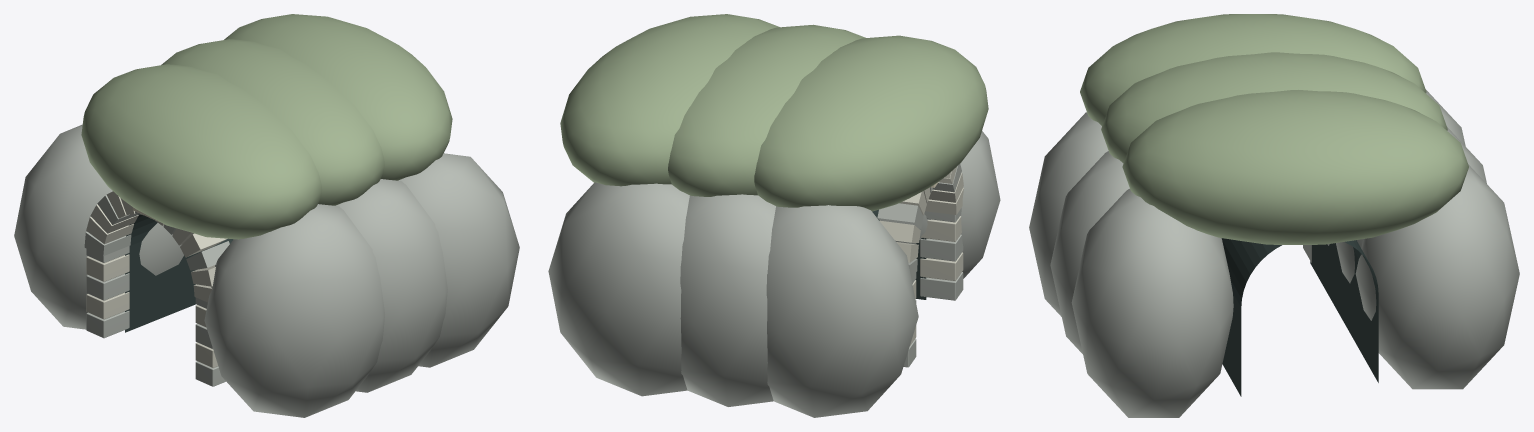
The model's file is SM_Tunnel.fbx.
3 views of the same model, side by side, from view 1: azimuth 30°, elevation 25°; view 2: azimuth 150°, elevation 25°; view 3: azimuth 270°, elevation 25° (orthographic). The views are drawn at different scales.
Visible parts, largest first — view 1: SM_Tunnel; view 2: SM_Tunnel; view 3: SM_Tunnel.
Boxes of the visible parts, <box> form: SM_Tunnel: <box>14,14,519,417</box>; SM_Tunnel: <box>548,14,1000,417</box>; SM_Tunnel: <box>1029,14,1519,417</box>.
Bounding box in the file's own units: 1473 × 1614 × 1080.
